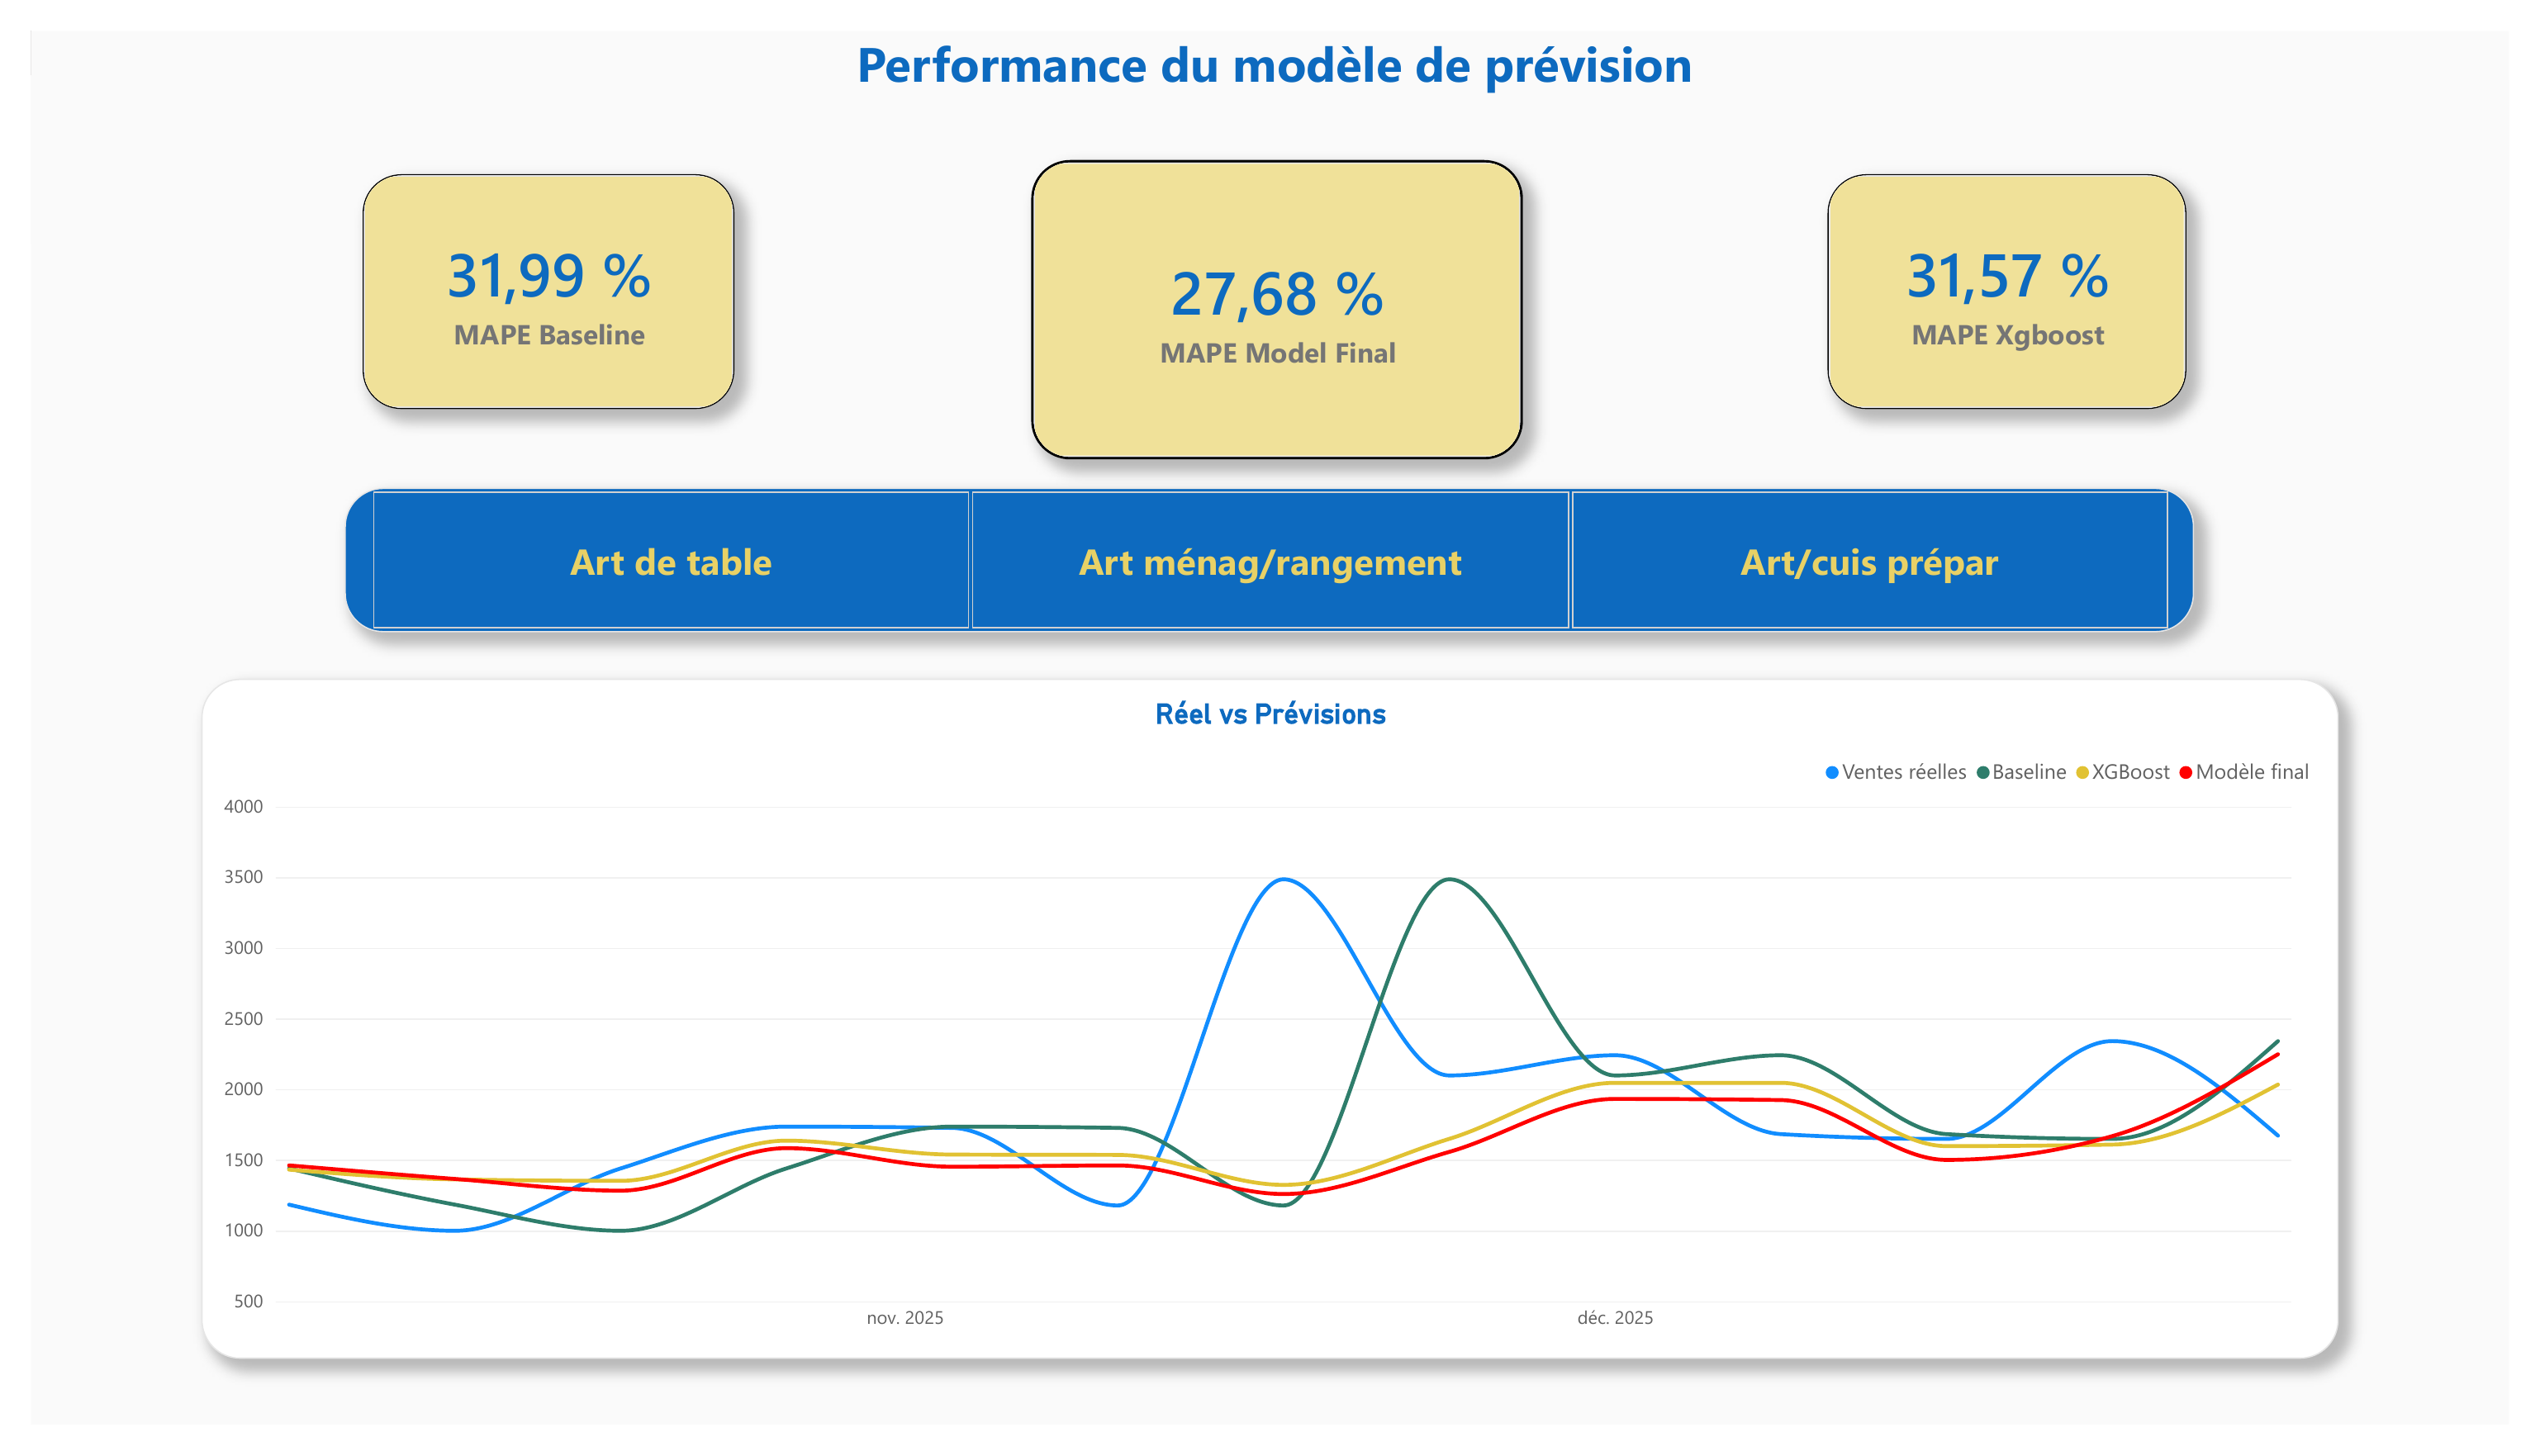

The page's visual inventory and layout, read from the dashboard file:
{"tool":"powerbi","page":{"name":"Prévision & Performance","canvas":[1920,1080],"ordinal":2},"visuals":[{"type":"textbox","box":[9.1,0,1910.2,99.9],"z":0},{"type":"cardVisual","fields":{"Data":["Mesures.MAPE Basline"]},"box":[256.7,111.3,288.5,181.7],"z":1000},{"type":"cardVisual","fields":{"Data":["Mesures.MAPE Model Final"]},"box":[774.5,99.9,381.6,231.7],"z":2000},{"type":"cardVisual","fields":{"Data":["Mesures.MAPE Xgboost"]},"box":[1392.3,111.3,277.8,181.4],"z":3000},{"type":"lineChart","title":"Réel vs Prévisions","fields":{"Category":["resultats_test.semaine"],"Y":["Sum(resultats_test.qte_semaine)","Sum(resultats_test.prevision_baseline)","Sum(resultats_test.prevision_xgboost)","Sum(resultats_test.prevision_finale)"]},"box":[131.7,502,1655.8,526.9],"z":4000},{"type":"slicer","fields":{"Values":["resultats_test.Nom Famille"]},"box":[243,354.3,1433.2,111.3],"z":5000}]}

Visuals, with their boxes on the page's 1920x1080 design canvas (x1, y1, x2, y2). These are canvas units, not pixel positions in the 2540x1456 screenshot, which may show the page scaled, cropped or inside an application window:
textbox: bbox=(9, 0, 1919, 100)
cardVisual - Mesures.MAPE Basline: bbox=(257, 111, 545, 293)
cardVisual - Mesures.MAPE Model Final: bbox=(774, 100, 1156, 332)
cardVisual - Mesures.MAPE Xgboost: bbox=(1392, 111, 1670, 293)
"Réel vs Prévisions" lineChart: bbox=(132, 502, 1788, 1029)
slicer - resultats_test.Nom Famille: bbox=(243, 354, 1676, 466)
